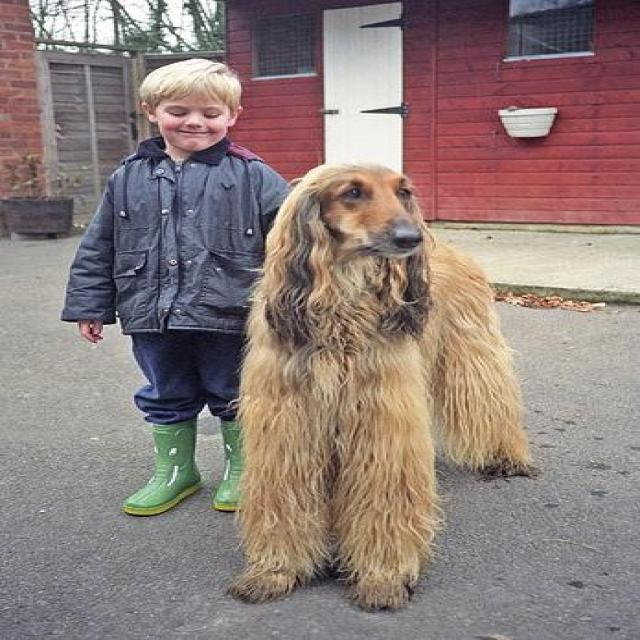afghan_hound: (230, 164, 541, 614)
